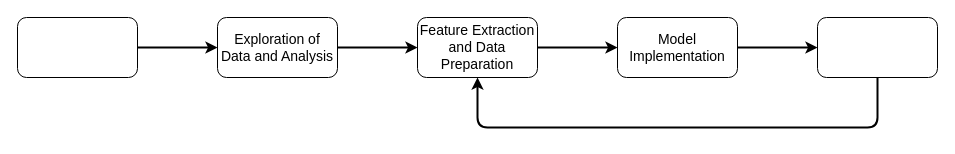
This 955x154 diagram has some shape labels left out. Here are the shapes that lost their labels. From the top down, the centre of each, then its label:
the point at 77,47: Data Collection
the point at 877,47: Prediction on unseen data
